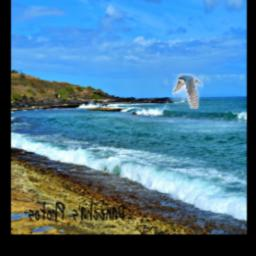Swallow: (172, 74, 204, 109)
